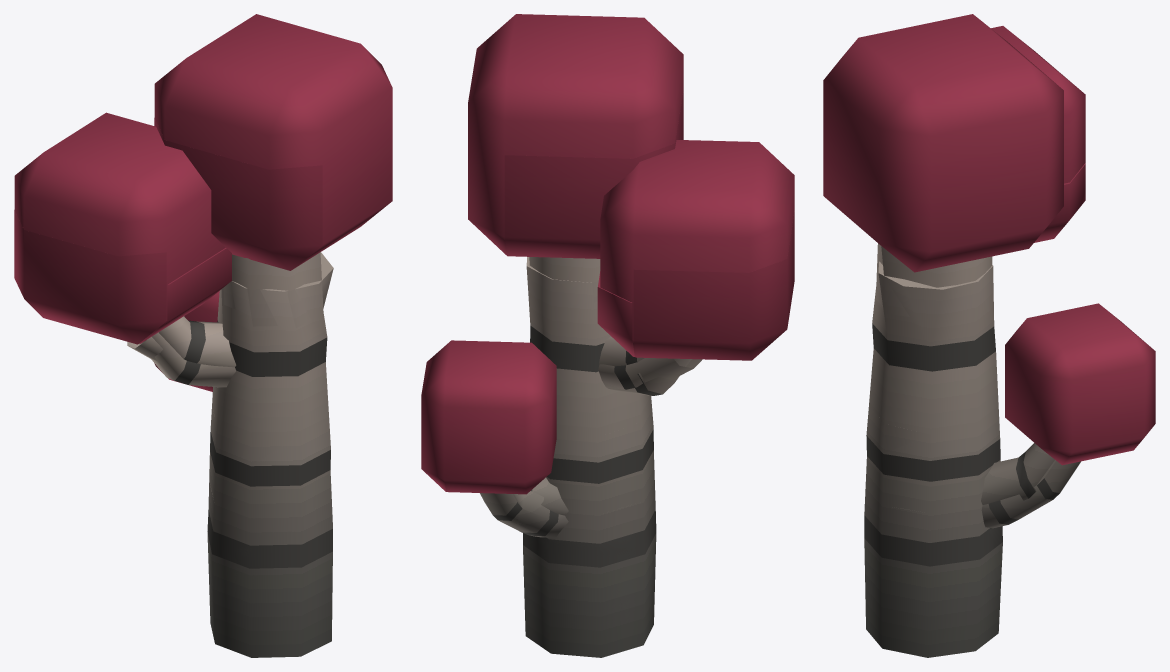
The model's file is AutumnBirch.fbx.
3 views of the same model, side by side, from view 1: azimuth 30°, elevation 25°; view 2: azimuth 150°, elevation 25°; view 3: azimuth 270°, elevation 25° (orthographic). The views are drawn at different scales.
Visible parts, largest first — view 1: AutumnBirch1, AutumnBirch2, AutumnBirch3, AutumnBirch6, AutumnBirch5, AutumnBirch4; view 2: AutumnBirch1, AutumnBirch2, AutumnBirch3, AutumnBirch5, AutumnBirch4, AutumnBirch6; view 3: AutumnBirch1, AutumnBirch3, AutumnBirch5, AutumnBirch4, AutumnBirch2, AutumnBirch6.
Boxes of the visible parts, box(x1,y1,x2,y2) form: AutumnBirch1: box(14, 14, 392, 657); AutumnBirch2: box(14, 118, 323, 391); AutumnBirch3: box(138, 248, 333, 543); AutumnBirch6: box(208, 482, 332, 657); AutumnBirch5: box(207, 407, 332, 657); AutumnBirch4: box(210, 370, 332, 657); AutumnBirch1: box(444, 14, 794, 657); AutumnBirch2: box(444, 91, 794, 537); AutumnBirch3: box(421, 257, 691, 543); AutumnBirch5: box(480, 422, 655, 657); AutumnBirch4: box(481, 368, 653, 653); AutumnBirch6: box(540, 492, 655, 655); AutumnBirch1: box(823, 14, 1154, 657); AutumnBirch3: box(866, 163, 1155, 542); AutumnBirch5: box(865, 406, 1080, 654); AutumnBirch4: box(864, 348, 1054, 640); AutumnBirch2: box(876, 243, 1153, 528); AutumnBirch6: box(864, 487, 992, 636).
Bounding box in the file's own units: 209 × 348 × 179.
